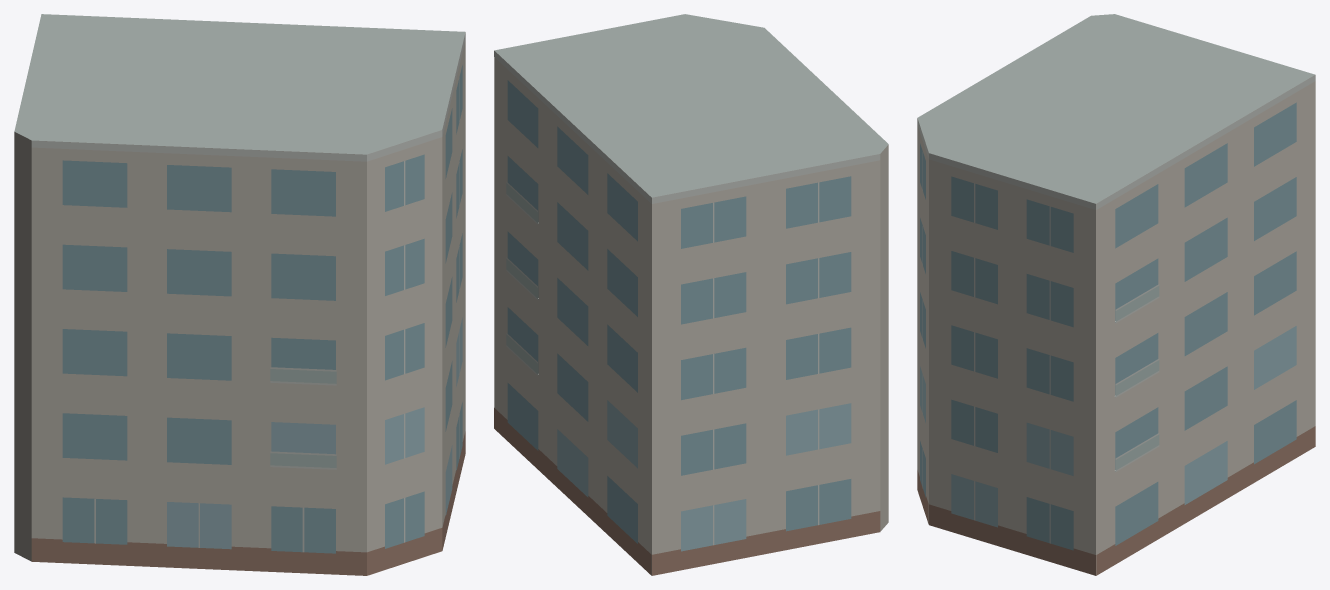
File: survey-upis-32901139.glb
3 renders of one model, left to right at view 1: azimuth 30°, elevation 25°; view 2: azimuth 150°, elevation 25°; view 3: azimuth 270°, elevation 25°, orthographic. The views are drawn at different scales.
Visible parts, largest first — view 1: survey-upis-32901139.tmp; view 2: survey-upis-32901139.tmp; view 3: survey-upis-32901139.tmp.
Boxes of the visible parts, <box> form: survey-upis-32901139.tmp: <box>14,14,465,575</box>; survey-upis-32901139.tmp: <box>494,14,888,575</box>; survey-upis-32901139.tmp: <box>917,14,1315,575</box>.
Size of the model in its own units: 15.83 by 14.45 by 14.03.
